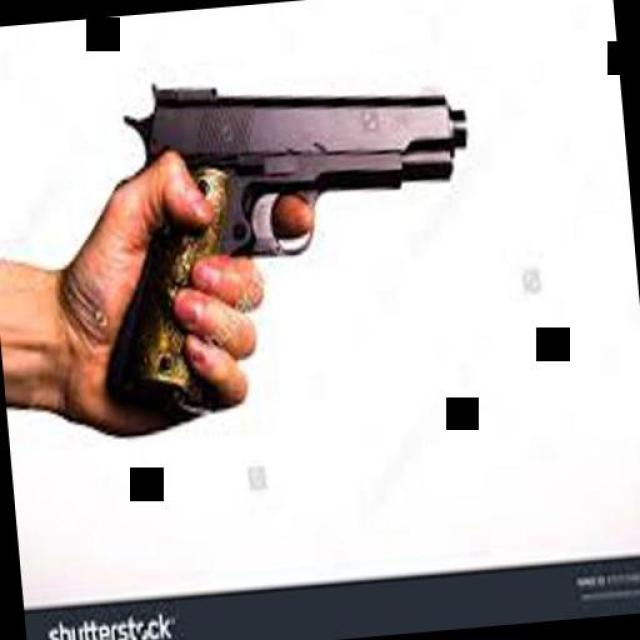gun: (89, 49, 494, 428)
